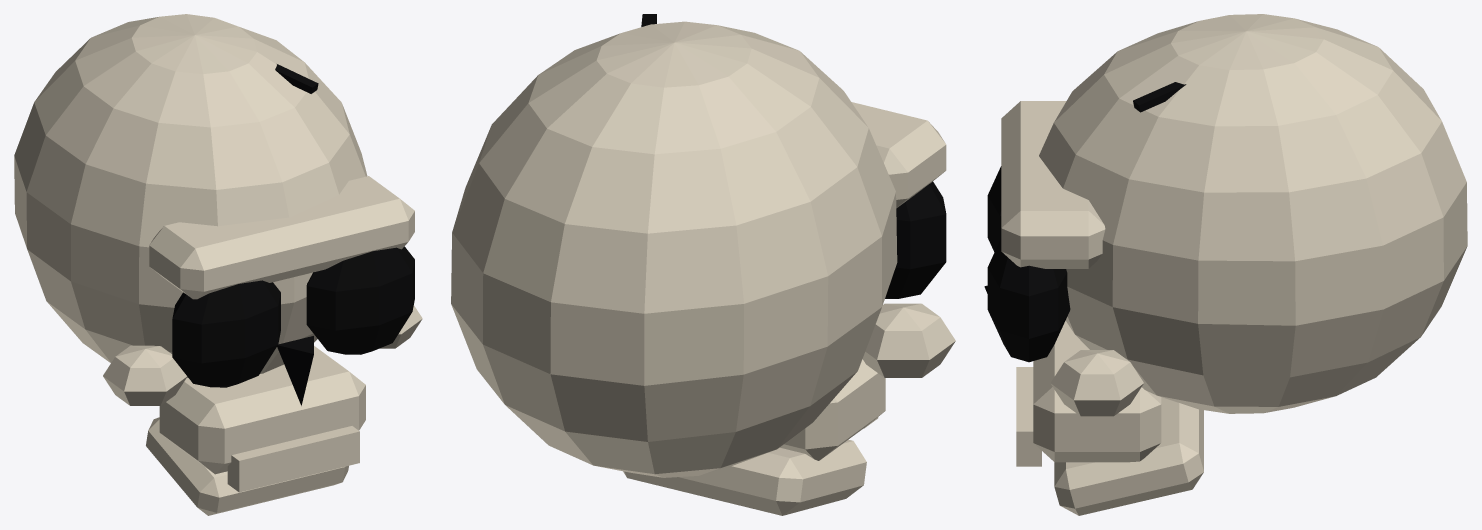
Rendered from skull_proj.glb.
3 views of the same model, side by side, from view 1: azimuth 30°, elevation 25°; view 2: azimuth 150°, elevation 25°; view 3: azimuth 270°, elevation 25° (orthographic). The views are drawn at different scales.
Parts seen in each view (by area): view 1: SkullProj; view 2: SkullProj; view 3: SkullProj.
Part boxes in pixels (x1,y1,x2,y2): SkullProj: (14, 14, 422, 515); SkullProj: (451, 14, 955, 515); SkullProj: (984, 14, 1467, 515).
Bounding box in the file's own units: 0.1781 × 0.2335 × 0.2268.
